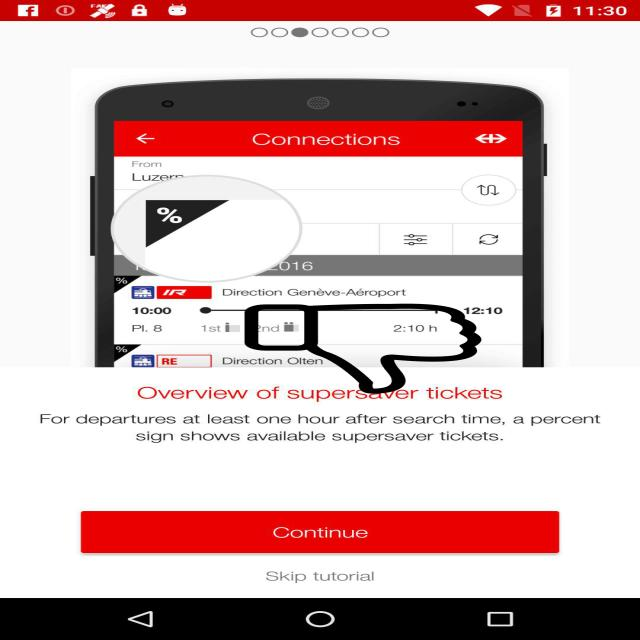obstruction: (241, 304, 485, 394)
